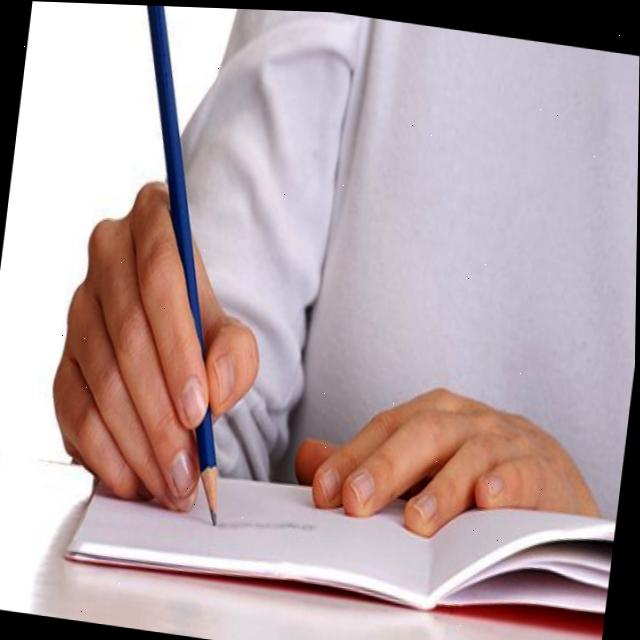pencil: (146, 4, 204, 353), (196, 405, 218, 522)
